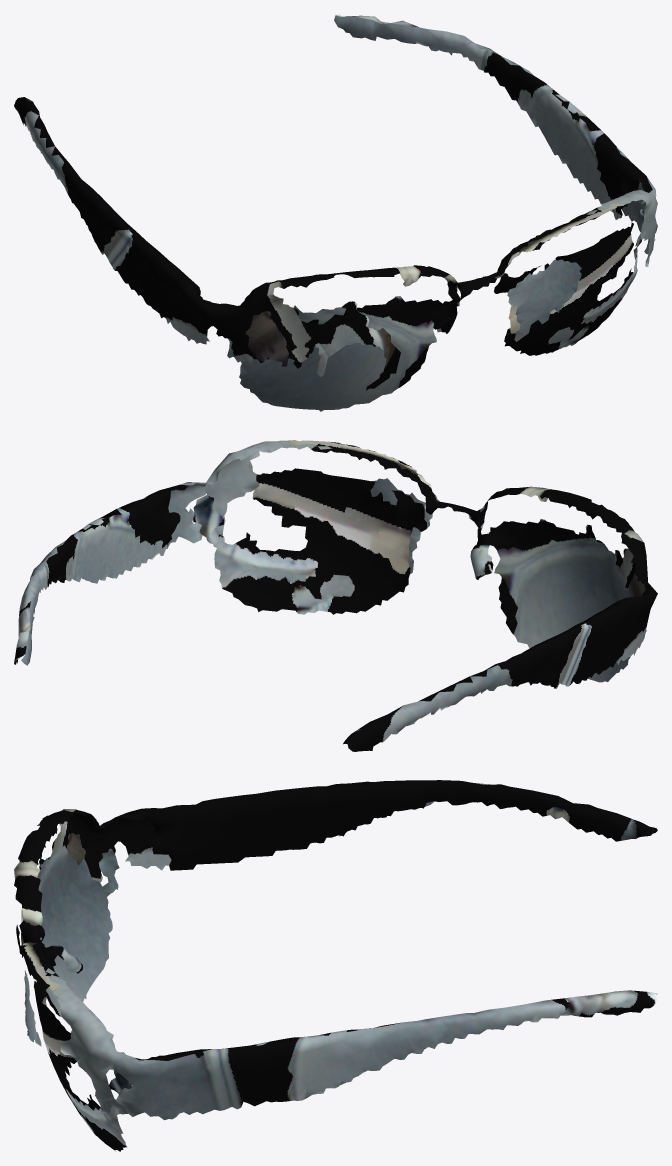
File: scan_align.obj
3 views of the same model, one above another, from view 1: azimuth 30°, elevation 25°; view 2: azimuth 150°, elevation 25°; view 3: azimuth 270°, elevation 25° (orthographic). The views are drawn at different scales.
Size of the model in its own units: 0.1407 by 0.0444 by 0.1521.
